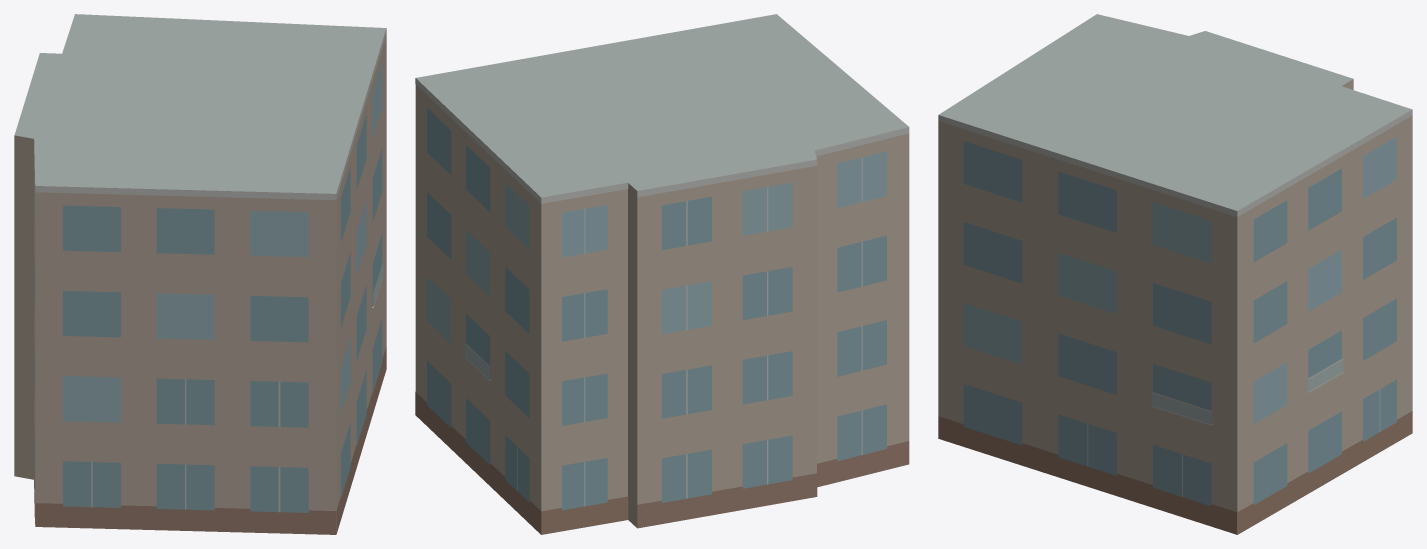
Rendered from survey-upis-32927363.glb.
The picture shows the model from 3 angles, left to right: view 1: azimuth 30°, elevation 25°; view 2: azimuth 150°, elevation 25°; view 3: azimuth 270°, elevation 25°; orthographic projection. The views are drawn at different scales.
Parts seen in each view (by area): view 1: survey-upis-32927363.tmp; view 2: survey-upis-32927363.tmp; view 3: survey-upis-32927363.tmp.
Boxes of the visible parts, left/top/right/bottom form: survey-upis-32927363.tmp: left=14, top=14, right=386, bottom=534; survey-upis-32927363.tmp: left=415, top=14, right=909, bottom=534; survey-upis-32927363.tmp: left=938, top=14, right=1412, bottom=534.
Size of the model in its own units: 17.24 by 13.2 by 17.53.
